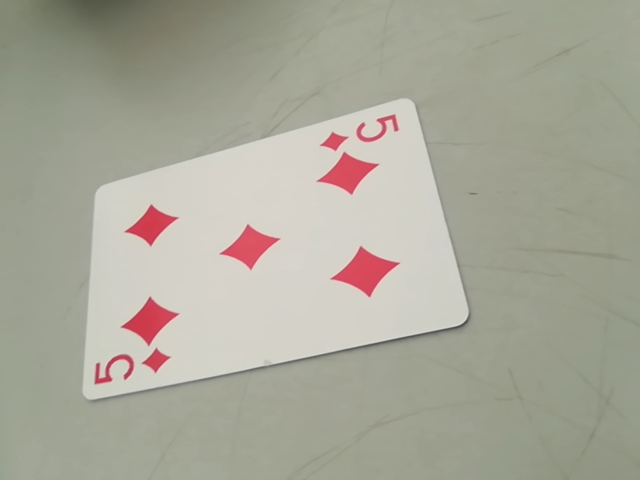fk 5: (88, 343, 178, 396), (317, 113, 407, 151)
